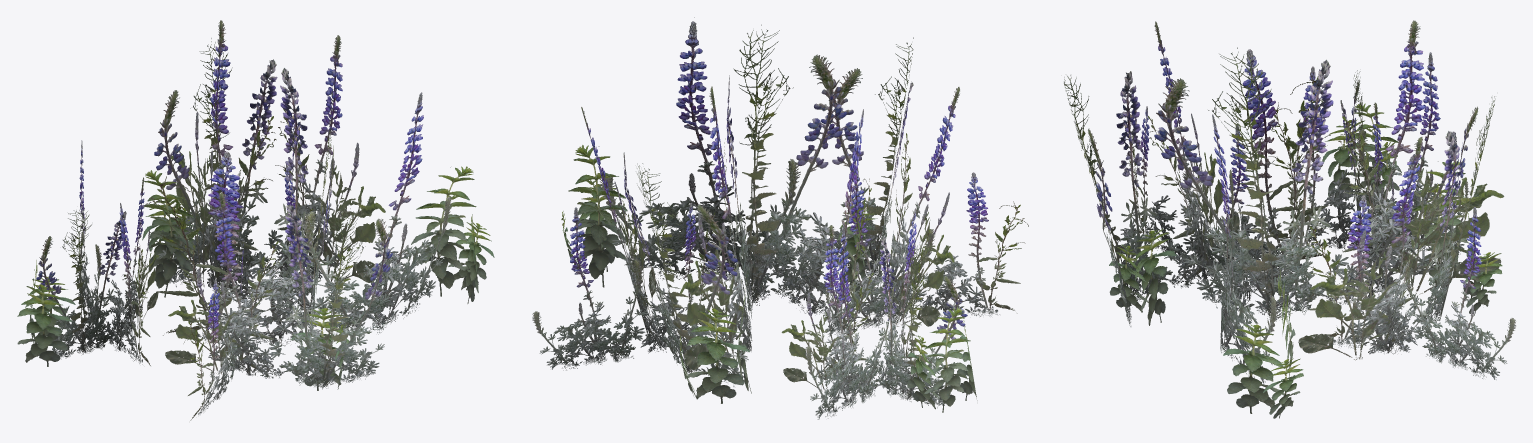
The model's file is proc_lupins_01.FBX.
3 renders of one model, left to right at view 1: azimuth 30°, elevation 25°; view 2: azimuth 150°, elevation 25°; view 3: azimuth 270°, elevation 25°, orthographic. The views are drawn at different scales.
Visible parts, largest first — view 1: proc_lupins_01; view 2: proc_lupins_01; view 3: proc_lupins_01.
Part boxes in pixels (left/top/right/bottom): proc_lupins_01: left=17, top=20, right=494, bottom=420; proc_lupins_01: left=532, top=17, right=1028, bottom=419; proc_lupins_01: left=1064, top=20, right=1515, bottom=418.
Bounding box in the file's own units: 2.78 × 2.28 × 1.82.
Materials: 1 (1 with a texture image).
